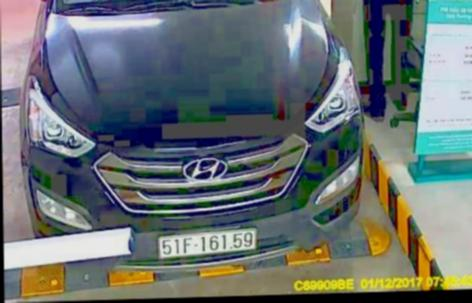License_Plate: (154, 227, 260, 260)
